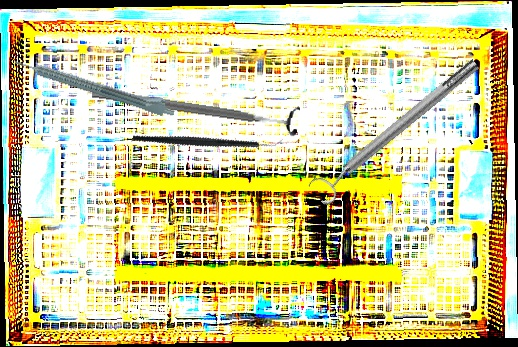Chopper: (131, 82, 284, 196)
Fixation Ring: (305, 51, 488, 209), (89, 76, 301, 139)
Handpiece: (13, 49, 178, 120)
